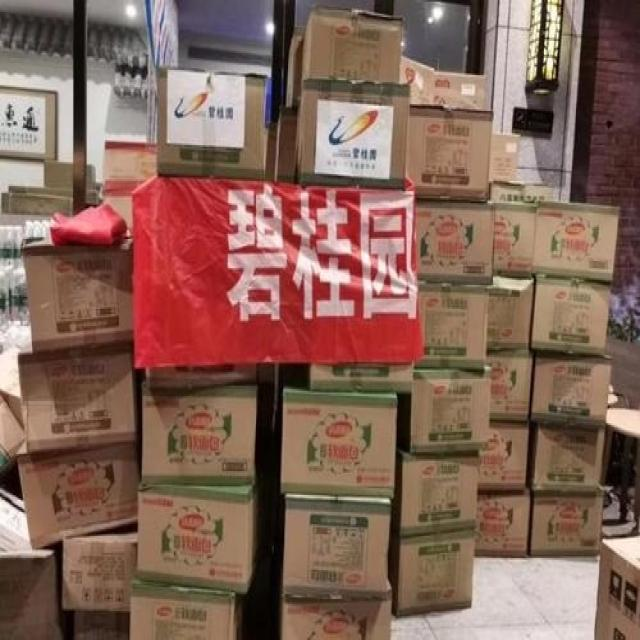box: (137, 474, 269, 594), (18, 338, 140, 452), (280, 384, 397, 500), (17, 442, 141, 548), (294, 79, 410, 191), (22, 236, 133, 353), (156, 67, 268, 179), (141, 381, 259, 486), (283, 492, 392, 597), (406, 106, 493, 201), (301, 5, 403, 84), (392, 447, 479, 538), (129, 573, 244, 640), (388, 529, 475, 616), (408, 365, 492, 452), (534, 201, 621, 283), (61, 521, 137, 613), (278, 580, 393, 640), (531, 346, 612, 430), (532, 273, 612, 357), (417, 201, 495, 285), (416, 283, 489, 372), (0, 548, 64, 640), (527, 422, 598, 497), (531, 488, 604, 556), (595, 534, 640, 640), (475, 488, 531, 556), (477, 422, 530, 492), (488, 273, 534, 350), (486, 350, 534, 422), (0, 345, 24, 481), (494, 203, 536, 276), (101, 142, 157, 196), (145, 362, 257, 389), (308, 364, 412, 393), (274, 101, 300, 183), (0, 486, 31, 553), (435, 72, 485, 109), (401, 56, 435, 106), (287, 26, 307, 108), (74, 611, 129, 640), (490, 133, 521, 181), (490, 183, 556, 201)
